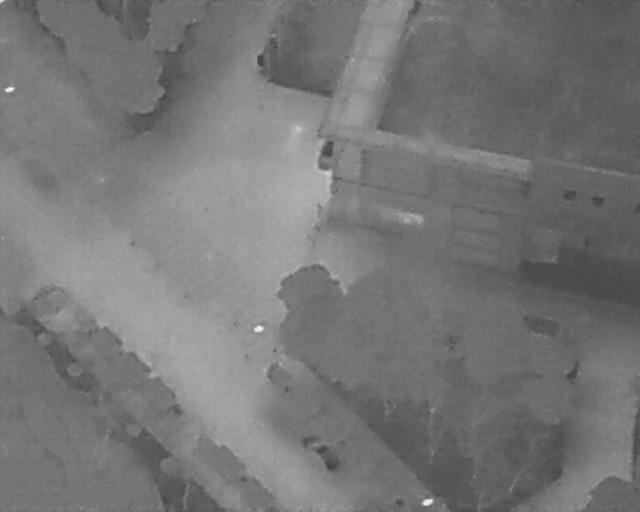Car: (298, 425, 347, 477), (312, 136, 340, 173)
